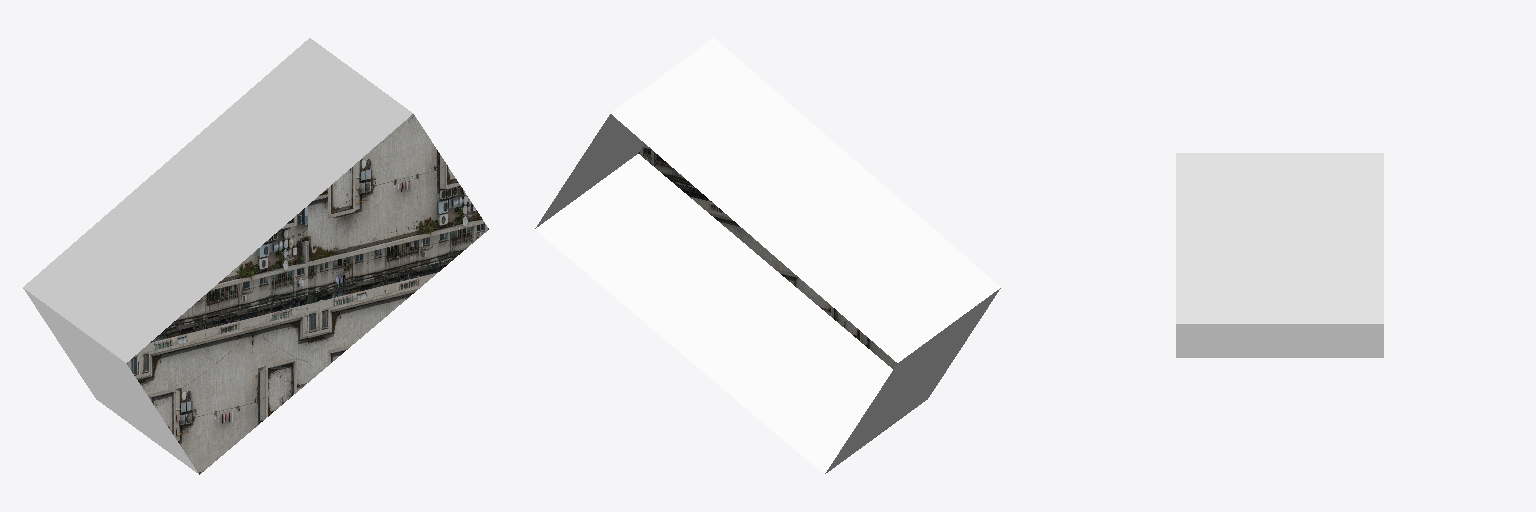
3 views of the same model, side by side, from view 1: azimuth 30°, elevation 25°; view 2: azimuth 150°, elevation 25°; view 3: azimuth 270°, elevation 25° (orthographic).
Visible parts, largest first — view 1: Building; view 2: Building; view 3: Building.
Part boxes in pixels (x1,y1,x2,y2): Building: (23, 38, 488, 474); Building: (535, 38, 1000, 474); Building: (1176, 153, 1383, 357).
Bounding box in the file's own units: 12.13 × 9.88 × 6.
2 materials, 1 textured.